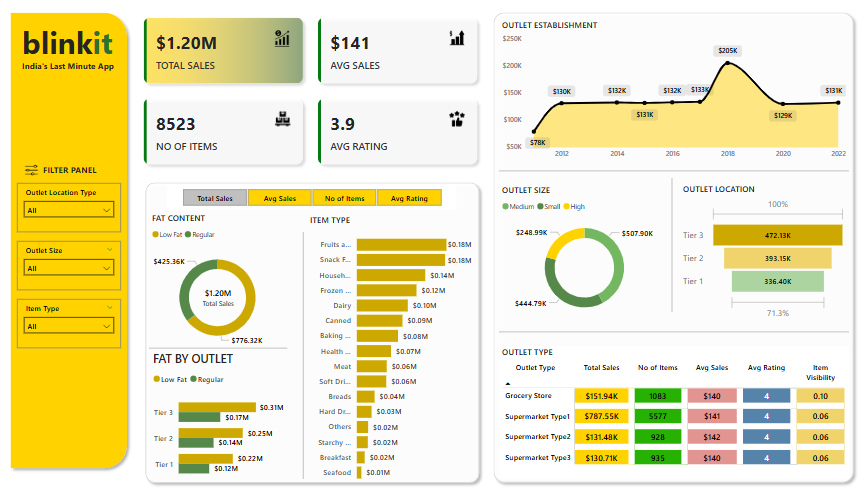

This screenshot's page, from the dashboard's own definition file:
{"tool":"powerbi","page":{"name":"Page 1","canvas":[1400,800],"ordinal":0},"visuals":[{"type":"shape","box":[16.1,27.3,205,750],"z":0},{"type":"textbox","box":[38.6,46.6,167.1,77.1],"z":1000},{"type":"textbox","box":[38.6,107.6,167.1,32.1],"z":2000},{"type":"cardVisual","fields":{"Data":["BlinkIT Grocery Data.Total Sales","BlinkIT Grocery Data.Avg Sales","BlinkIT Grocery Data.No of Items","BlinkIT Grocery Data.Avg Rating"]},"box":[221.5,27.7,570.8,270.8],"z":3000},{"type":"shape","box":[232.3,300,553.8,500],"z":4000},{"type":"donutChart","title":"FAT CONTENT","fields":{"Y":["BlinkIT Grocery Data.Total Sales"],"Category":["BlinkIT Grocery Data.Item Fat Content"]},"box":[247.7,356.9,220,230.8],"z":5000},{"type":"slicer","fields":{"Values":["Metrics.Metrics"]},"box":[276.9,313.8,464.6,40],"z":6000},{"type":"cardVisual","fields":{"Data":["BlinkIT Grocery Data.Total Sales"]},"box":[307.7,461.5,100,53.8],"z":7000},{"type":"clusteredBarChart","title":"FAT BY OUTLET","fields":{"Y":["BlinkIT Grocery Data.Total Sales"],"Category":["BlinkIT Grocery Data.Outlet Location Type"],"Series":["BlinkIT Grocery Data.Item Fat Content"]},"box":[249,579.9,220.1,220.1],"z":8000},{"type":"shape","box":[246.7,563.3,221.7,23.3],"z":9000},{"type":"shape","box":[480,388.3,30,396.7],"z":10000},{"type":"barChart","title":"ITEM TYPE","fields":{"Y":["BlinkIT Grocery Data.Total Sales"],"Category":["BlinkIT Grocery Data.Item Type"]},"box":[501.7,360,270,440],"z":11000},{"type":"shape","box":[792,27.3,596,772.7],"z":12000},{"type":"lineChart","title":"OUTLET ESTABLISHMENT","fields":{"Y":["BlinkIT Grocery Data.Total Sales"],"Category":["BlinkIT Grocery Data.Outlet Establishment Year"]},"box":[809.6,46.6,562.2,234.5],"z":13000},{"type":"shape","box":[809.6,279.5,562.2,22.5],"z":14000},{"type":"donutChart","title":"OUTLET SIZE","fields":{"Y":["BlinkIT Grocery Data.Total Sales"],"Category":["BlinkIT Grocery Data.Outlet Size"]},"box":[809.6,311.6,274.7,224.9],"z":15000},{"type":"shape","box":[1074.7,302,25.7,215.3],"z":16000},{"type":"funnel","title":"OUTLET LOCATION","fields":{"Y":["Sum(BlinkIT Grocery Data.Sales)"],"Category":["BlinkIT Grocery Data.Outlet Location Type"]},"box":[1100.4,310,271.5,224.9],"z":17000},{"type":"shape","box":[809.6,538.2,562.2,22.5],"z":18000},{"type":"pivotTable","title":"OUTLET TYPE","fields":{"Rows":["BlinkIT Grocery Data.Outlet Type"],"Values":["BlinkIT Grocery Data.Total Sales","BlinkIT Grocery Data.No of Items","BlinkIT Grocery Data.Avg Sales","BlinkIT Grocery Data.Avg Rating","Avg(BlinkIT Grocery Data.Item Visibility)"]},"box":[809.6,571.9,562.2,213.7],"z":19000},{"type":"slicer","fields":{"Values":["BlinkIT Grocery Data.Outlet Location Type"]},"box":[35.3,310,167.1,67.5],"z":20000},{"type":"slicer","fields":{"Values":["BlinkIT Grocery Data.Outlet Size"]},"box":[35.3,388.8,167.1,69.1],"z":21000},{"type":"slicer","fields":{"Values":["BlinkIT Grocery Data.Item Type"]},"box":[35.3,469.1,167.1,67.5],"z":22000},{"type":"textbox","box":[72.3,274.7,109.2,30.5],"z":23000},{"type":"image","box":[38.6,269.9,40.2,38.6],"z":24000}]}

Visuals, with their boxes in screenshot pixels (x1, y1, x2, y2), scaled from the page's 1400x800 canvas onto the 867x488 screenshot:
shape: x1=10, y1=17, x2=137, y2=474
textbox: x1=24, y1=28, x2=127, y2=75
textbox: x1=24, y1=66, x2=127, y2=85
cardVisual - BlinkIT Grocery Data.Total Sales x BlinkIT Grocery Data.Avg Sales: x1=137, y1=17, x2=491, y2=182
shape: x1=144, y1=183, x2=487, y2=487
"FAT CONTENT" donutChart: x1=153, y1=218, x2=290, y2=358
slicer - Metrics.Metrics: x1=171, y1=191, x2=459, y2=216
cardVisual - BlinkIT Grocery Data.Total Sales: x1=191, y1=282, x2=252, y2=314
"FAT BY OUTLET" clusteredBarChart: x1=154, y1=354, x2=291, y2=487
shape: x1=153, y1=344, x2=290, y2=358
shape: x1=297, y1=237, x2=316, y2=479
"ITEM TYPE" barChart: x1=311, y1=220, x2=478, y2=487
shape: x1=490, y1=17, x2=860, y2=487
"OUTLET ESTABLISHMENT" lineChart: x1=501, y1=28, x2=850, y2=171
shape: x1=501, y1=170, x2=850, y2=184
"OUTLET SIZE" donutChart: x1=501, y1=190, x2=671, y2=327
shape: x1=666, y1=184, x2=681, y2=316
"OUTLET LOCATION" funnel: x1=681, y1=189, x2=850, y2=326
shape: x1=501, y1=328, x2=850, y2=342
"OUTLET TYPE" pivotTable: x1=501, y1=349, x2=850, y2=479
slicer - BlinkIT Grocery Data.Outlet Location Type: x1=22, y1=189, x2=125, y2=230
slicer - BlinkIT Grocery Data.Outlet Size: x1=22, y1=237, x2=125, y2=279
slicer - BlinkIT Grocery Data.Item Type: x1=22, y1=286, x2=125, y2=327
textbox: x1=45, y1=168, x2=112, y2=186
image: x1=24, y1=165, x2=49, y2=188
